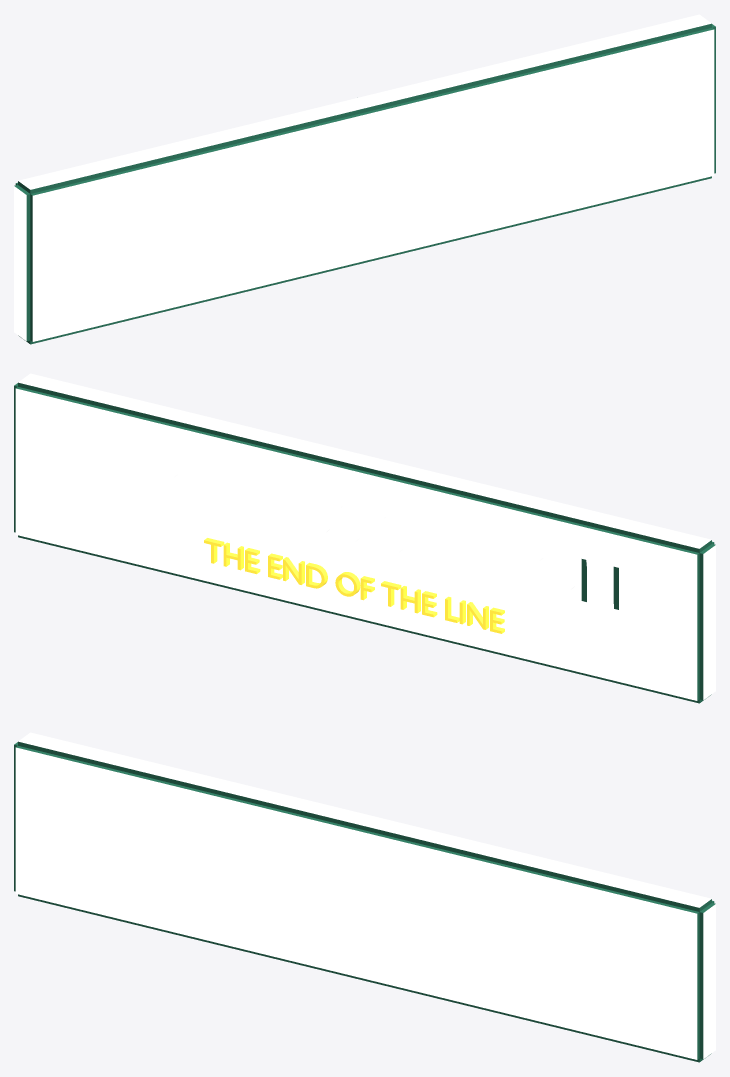
The model's file is sign_terminus_hall.glb.
3 views of the same model, one above another, from view 1: azimuth 30°, elevation 25°; view 2: azimuth 150°, elevation 25°; view 3: azimuth 330°, elevation 25° (orthographic).
Visible parts, largest first — view 1: sign_terminus_hall; view 2: sign_terminus_hall; view 3: sign_terminus_hall.
Boxes of the visible parts, bbox=[...] form: sign_terminus_hall: bbox=[14, 14, 715, 344]; sign_terminus_hall: bbox=[14, 373, 715, 703]; sign_terminus_hall: bbox=[14, 732, 715, 1062].
Bounding box in the file's own units: 7 × 1.5 × 0.36.
